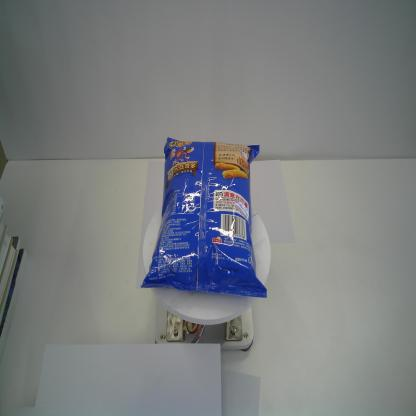Puffed Food: (140, 136, 268, 300)
